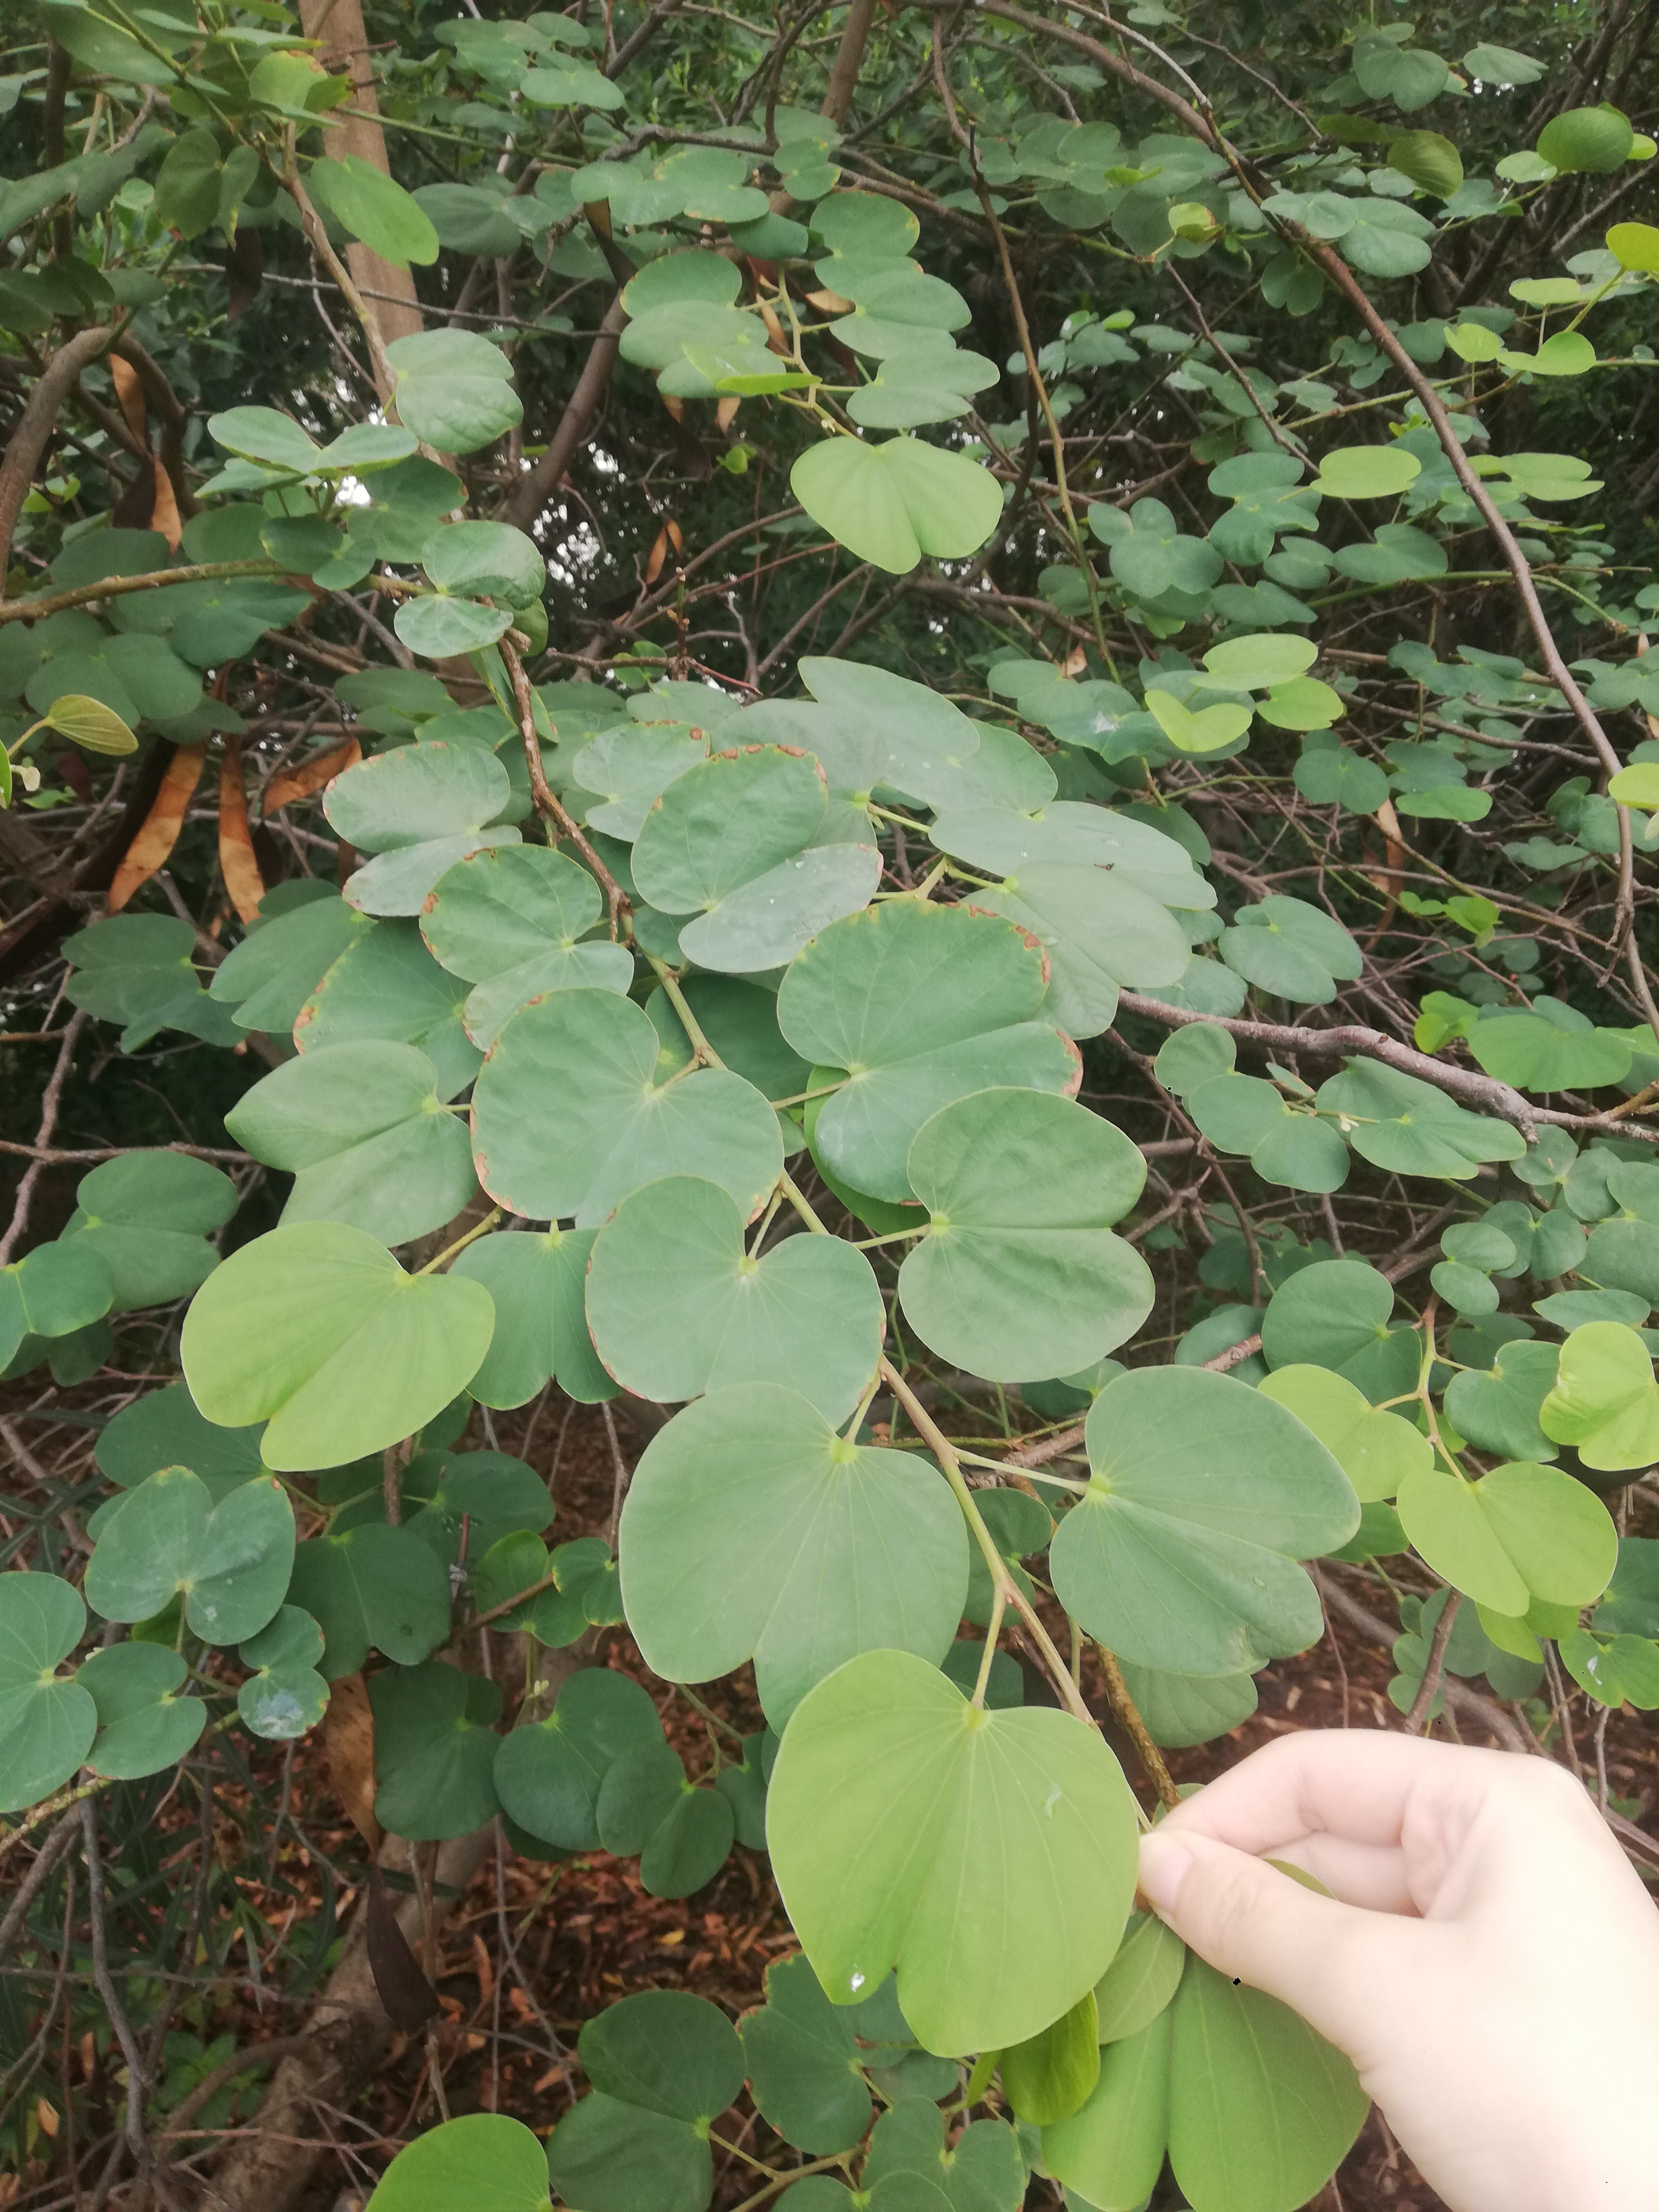healthy: (756, 1644, 1152, 2060), (615, 1381, 990, 1737), (1044, 1348, 1368, 1683), (892, 1082, 1162, 1385), (174, 1219, 495, 1472), (1391, 1449, 1624, 1615)
nothealthy: (774, 894, 1086, 1216), (460, 986, 784, 1268), (626, 740, 896, 979), (416, 836, 627, 1075)
